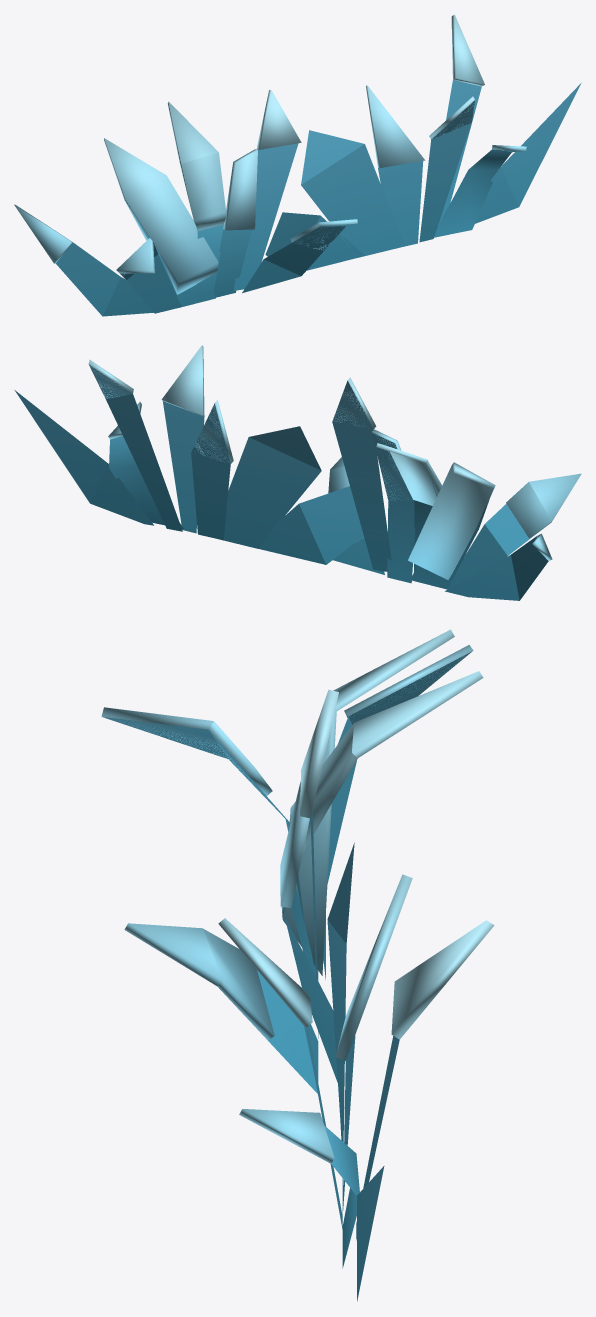
The model's file is Grass_Winter_0_1.fbx.
3 renders of one model, top to bottom at view 1: azimuth 30°, elevation 25°; view 2: azimuth 150°, elevation 25°; view 3: azimuth 270°, elevation 25°, orthographic. The views are drawn at different scales.
Parts seen in each view (by area): view 1: grass-long.002; view 2: grass-long.002; view 3: grass-long.002.
Boxes of the visible parts, x1,y1,x2,y2 form: grass-long.002: (14, 14, 581, 316); grass-long.002: (14, 345, 581, 600); grass-long.002: (101, 629, 494, 1301).
Size of the model in its own units: 195 by 65.92 by 61.18.
